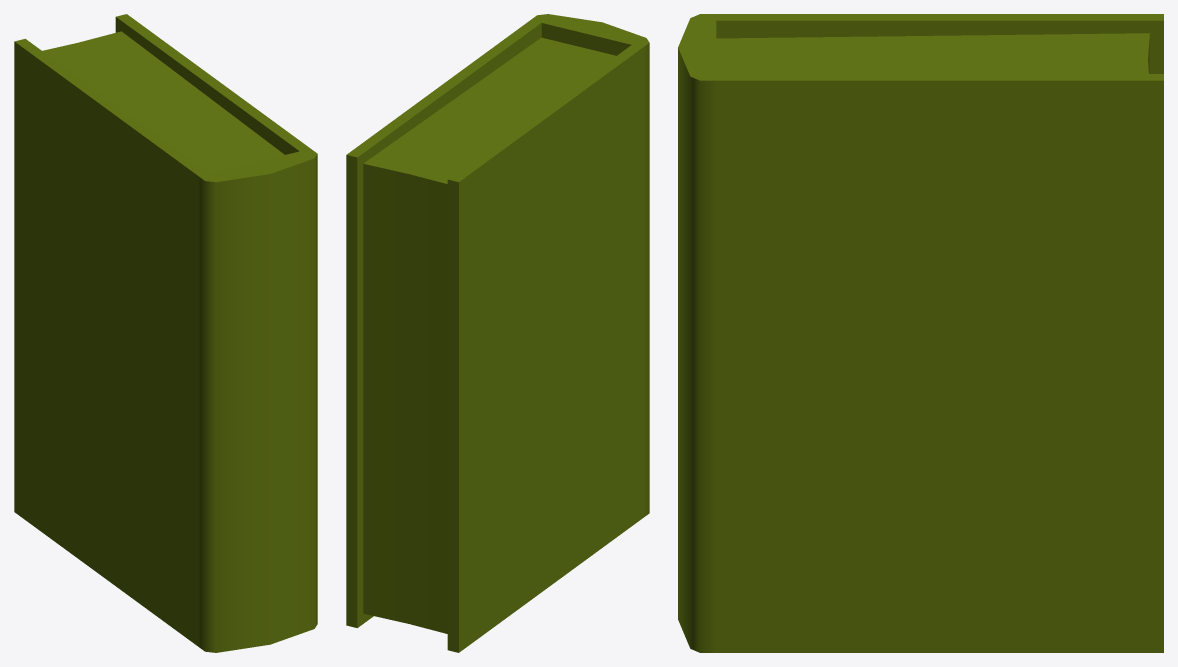
The model's file is RE_PropBook03.FBX.
The picture shows the model from 3 angles, left to right: view 1: azimuth 30°, elevation 25°; view 2: azimuth 150°, elevation 25°; view 3: azimuth 270°, elevation 25°; orthographic projection. The views are drawn at different scales.
Parts seen in each view (by area): view 1: RE_PropBook03; view 2: RE_PropBook03; view 3: RE_PropBook03.
Part boxes in pixels (bbox=[...]): RE_PropBook03: bbox=[14, 14, 317, 652]; RE_PropBook03: bbox=[346, 14, 649, 652]; RE_PropBook03: bbox=[678, 14, 1163, 652].
Bounding box in the file's own units: 3.18 × 12.71 × 9.78.
